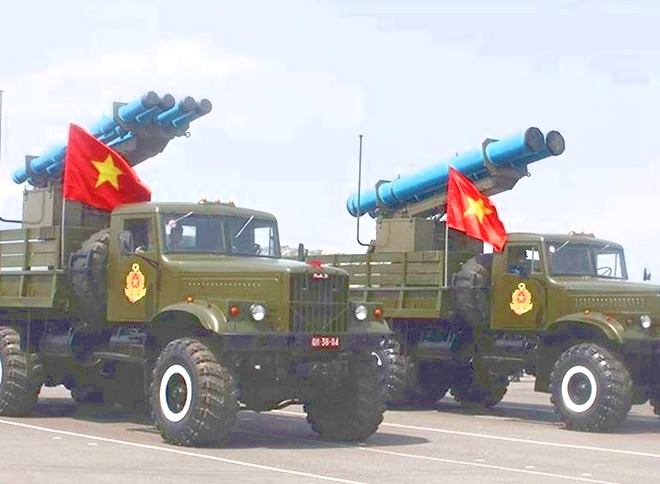plate: (308, 332, 341, 348)
